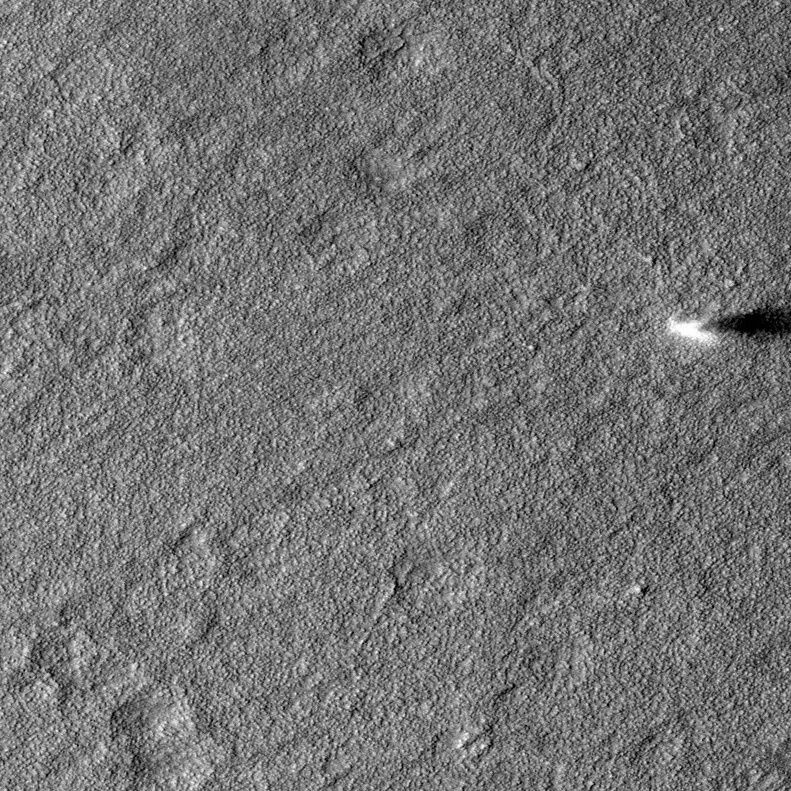dust_devil: (661, 295, 791, 351)
